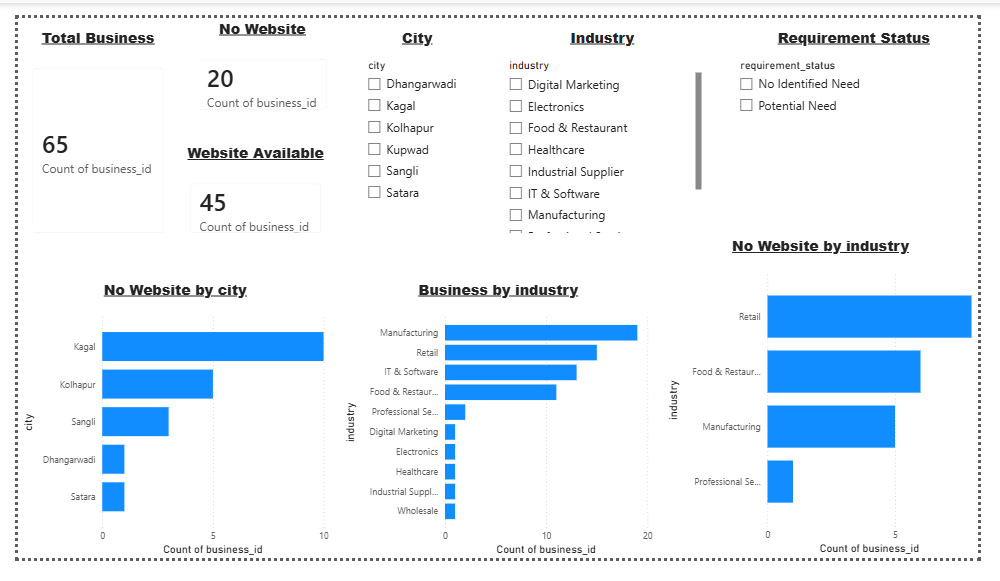

The dashboard page shown, as its layout file describes it:
{"tool":"powerbi","page":{"name":"Page 1","canvas":[1280,720],"ordinal":0},"visuals":[{"type":"cardVisual","title":"Total Business","fields":{"Data":["CountNonNull(public business_data.business_id)"]},"box":[1.8,11,209.6,292.3],"z":0},{"type":"cardVisual","title":"No Website","fields":{"Data":["CountNonNull(public business_data.business_id)"]},"box":[222.4,0,207.7,139.7],"z":1000},{"type":"cardVisual","title":"Website Available","fields":{"Data":["CountNonNull(public business_data.business_id)"]},"box":[211.4,165.4,209.6,137.9],"z":2000},{"type":"clusteredBarChart","title":"Business by industry","fields":{"Category":["public business_data.industry"],"Y":["CountNonNull(public business_data.business_id)"]},"box":[430.1,347.4,421,373.2],"z":3000},{"type":"clusteredBarChart","title":"No Website by city","fields":{"Category":["public business_data.city"],"Y":["CountNonNull(public business_data.business_id)"]},"box":[0,347.4,419.1,373.2],"z":4000},{"type":"clusteredBarChart","title":"No Website by industry","fields":{"Category":["public business_data.industry"],"Y":["CountNonNull(public business_data.business_id)"]},"box":[860,290,420,430],"z":5000},{"type":"slicer","title":"City","fields":{"Values":["public business_data.city"]},"box":[454,11,156.2,279.4],"z":6000},{"type":"slicer","title":"Industry","fields":{"Values":["public business_data.industry"]},"box":[641.5,11,274,279],"z":7000},{"type":"slicer","title":"Requirement Status","fields":{"Values":["public business_data.requirement_status"]},"box":[950.4,11,329,279.4],"z":8000}]}

Visuals, with their boxes on the page's 1280x720 design canvas (x1, y1, x2, y2). These are canvas units, not pixel positions in the 1000x581 screenshot, which may show the page scaled, cropped or inside an application window:
"Total Business" cardVisual: <region>2, 11, 211, 303</region>
"No Website" cardVisual: <region>222, 0, 430, 140</region>
"Website Available" cardVisual: <region>211, 165, 421, 303</region>
"Business by industry" clusteredBarChart: <region>430, 347, 851, 721</region>
"No Website by city" clusteredBarChart: <region>0, 347, 419, 721</region>
"No Website by industry" clusteredBarChart: <region>860, 290, 1280, 720</region>
"City" slicer: <region>454, 11, 610, 290</region>
"Industry" slicer: <region>642, 11, 916, 290</region>
"Requirement Status" slicer: <region>950, 11, 1279, 290</region>
